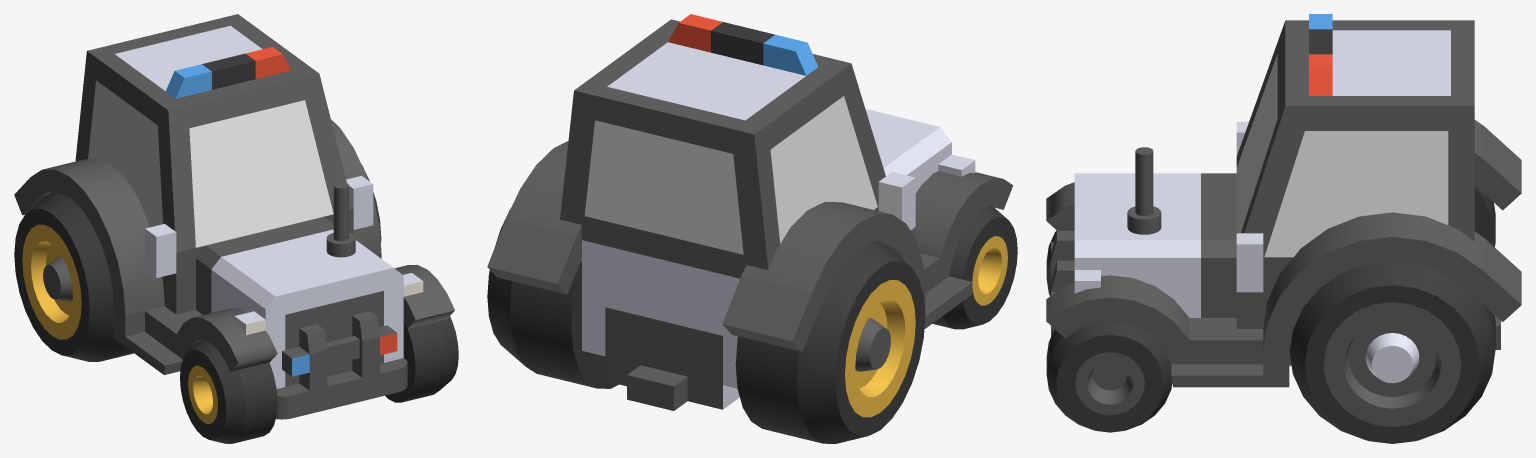
File: tractorPolice.fbx
3 views of the same model, side by side, from view 1: azimuth 30°, elevation 25°; view 2: azimuth 150°, elevation 25°; view 3: azimuth 270°, elevation 25° (orthographic). The views are drawn at different scales.
Parts seen in each view (by area): view 1: body, skirts, wheel_backRight, grill, wheel_frontRight, wheel_frontLeft; view 2: body, skirts, wheel_backRight, wheel_backLeft, wheel_frontRight; view 3: body, skirts, wheel_backLeft, wheel_frontLeft, grill, wheel_backRight.
Part boxes in pixels (x1=…): body: x1=75, y1=14, x2=423, y2=388; skirts: x1=14, y1=119, x2=454, y2=374; wheel_backRight: x1=14, y1=191, x2=133, y2=361; grill: x1=276, y1=311, x2=407, y2=419; wheel_frontRight: x1=180, y1=340, x2=277, y2=443; wheel_frontLeft: x1=385, y1=316, x2=458, y2=402; body: x1=560, y1=14, x2=975, y2=410; skirts: x1=487, y1=141, x2=1013, y2=351; wheel_backRight: x1=735, y1=241, x2=925, y2=443; wheel_backLeft: x1=487, y1=208, x2=618, y2=388; wheel_frontRight: x1=932, y1=205, x2=1017, y2=329; body: x1=1074, y1=14, x2=1500, y2=366; skirts: x1=1046, y1=120, x2=1521, y2=387; wheel_backLeft: x1=1289, y1=261, x2=1495, y2=443; wheel_frontLeft: x1=1046, y1=322, x2=1172, y2=432; grill: x1=1051, y1=230, x2=1074, y2=336; wheel_backRight: x1=1474, y1=185, x2=1495, y2=246.
Bounding box in the file's own units: 16.61 × 15.62 × 20.17.
